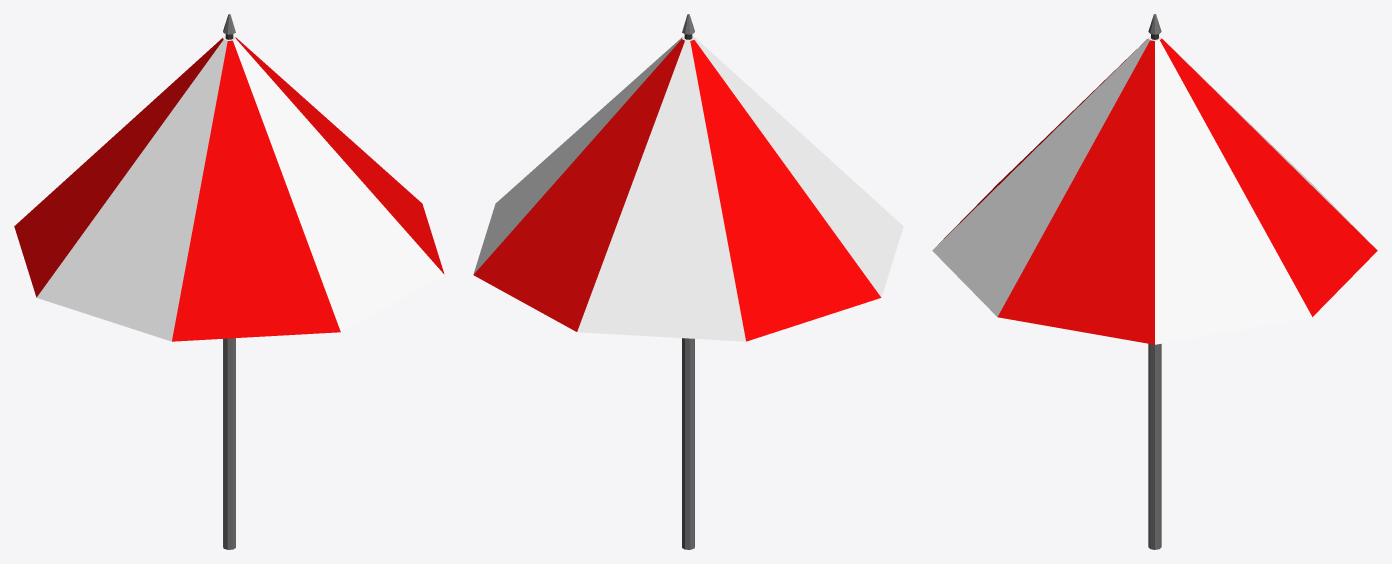
Rendered from parasol_Open.fbx.
The picture shows the model from 3 angles, left to right: view 1: azimuth 30°, elevation 25°; view 2: azimuth 150°, elevation 25°; view 3: azimuth 270°, elevation 25°; orthographic projection.
Parts seen in each view (by area): view 1: parasol_Open; view 2: parasol_Open; view 3: parasol_Open.
Boxes of the visible parts, x1,y1,x2,y2 form: parasol_Open: (14, 14, 444, 549); parasol_Open: (473, 14, 903, 549); parasol_Open: (932, 14, 1377, 549).
Bounding box in the file's own units: 350 × 461 × 350.
Materials: 1 (1 with a texture image).
